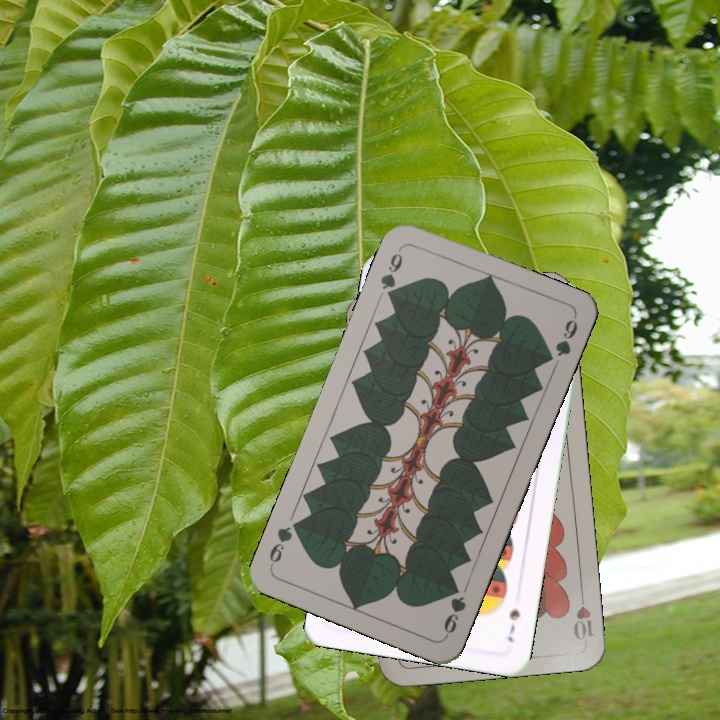G9: (439, 579, 469, 640), (376, 244, 405, 304)
H10: (569, 585, 596, 643)
S7: (503, 605, 523, 645)
